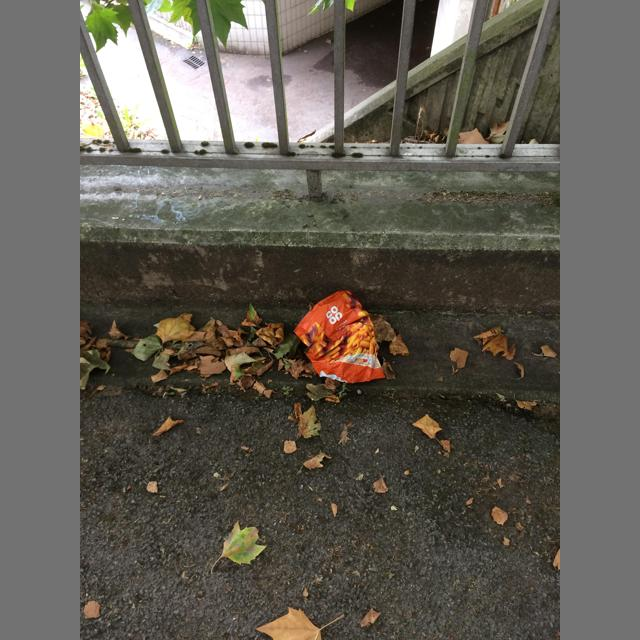litter: (293, 289, 385, 383)
